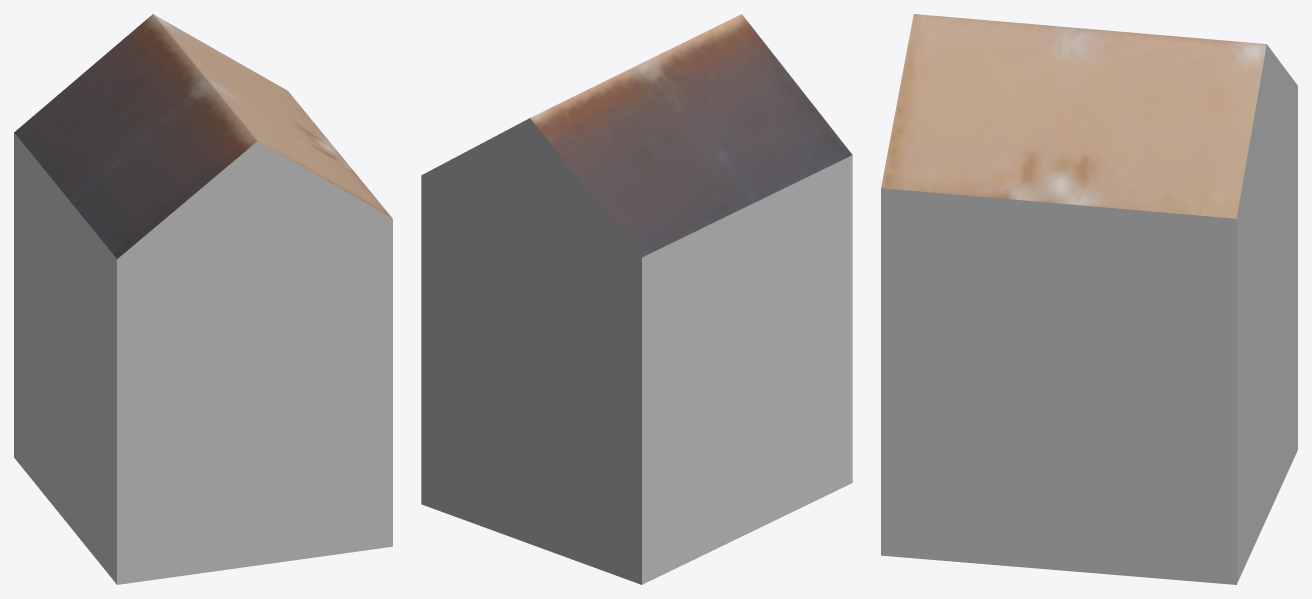
Rendered from DEBW_0010007Txhb.gltf.
3 renders of one model, left to right at view 1: azimuth 30°, elevation 25°; view 2: azimuth 150°, elevation 25°; view 3: azimuth 270°, elevation 25°, orthographic. The views are drawn at different scales.
Parts seen in each view (by area): view 1: Z_UP; view 2: Z_UP; view 3: Z_UP.
Boxes of the visible parts, x1=… form: Z_UP: x1=14, y1=14, x2=392, y2=584; Z_UP: x1=421, y1=14, x2=852, y2=584; Z_UP: x1=881, y1=14, x2=1297, y2=584.
Size of the model in its own units: 13.17 by 17.81 by 14.15.
Materials: 2 (1 with a texture image).
